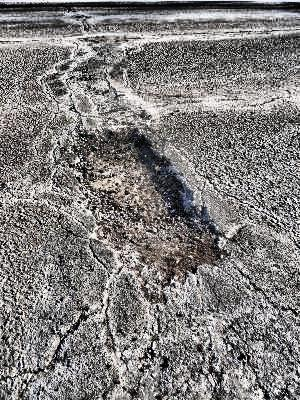pothole: (72, 121, 209, 279)
